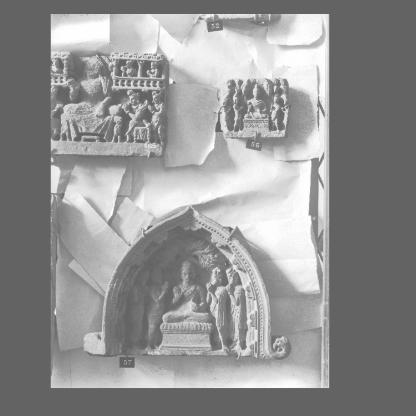buddha-sitting: (61, 53, 125, 148), (166, 256, 216, 351), (238, 84, 272, 134)
